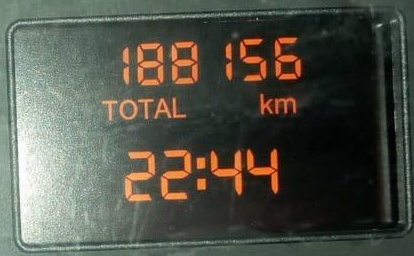1: (119, 43, 131, 85), (222, 41, 233, 80)
2: (122, 149, 156, 202), (159, 148, 192, 201), (169, 39, 199, 85), (135, 41, 164, 85)
4: (209, 147, 244, 196), (245, 147, 280, 195)
5: (238, 36, 267, 81)
6: (273, 35, 302, 80)
X: (193, 154, 207, 191), (273, 95, 298, 115), (118, 98, 138, 121), (152, 97, 171, 120), (136, 97, 154, 120), (101, 98, 118, 121), (257, 91, 273, 115), (170, 95, 186, 118)
